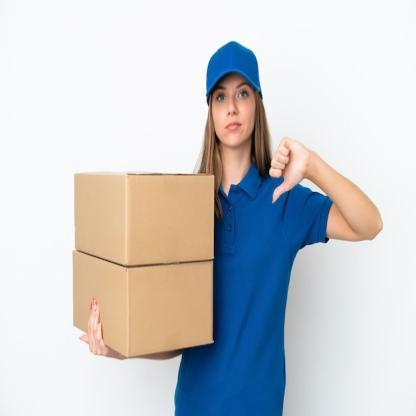thumb_down: (267, 128, 309, 204)
